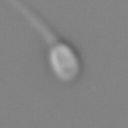normal: (9, 1, 57, 43)
